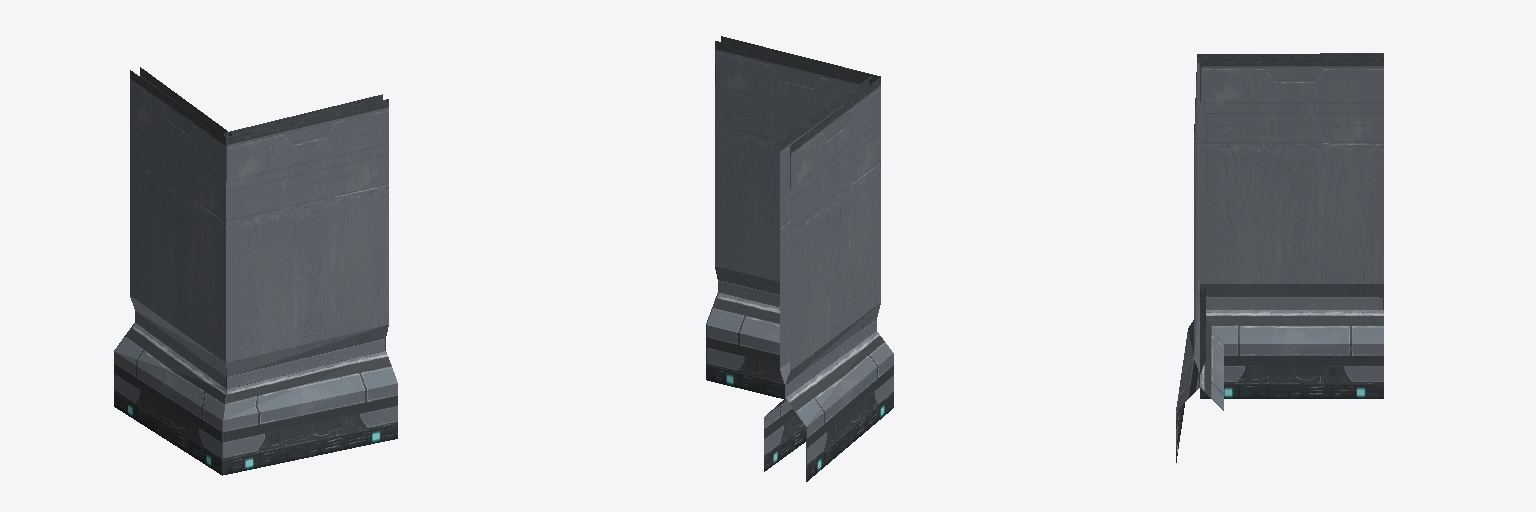
3 views of the same model, side by side, from view 1: azimuth 30°, elevation 25°; view 2: azimuth 150°, elevation 25°; view 3: azimuth 270°, elevation 25° (orthographic).
Visible parts, largest first — view 1: Plane.011_Plane.000_Plane.011_Plane.000, Plane.011_Plane.002, Plane.011_Plane.000; view 2: Plane.011_Plane.000_Plane.011_Plane.000, Plane.011_Plane.002, Plane.011_Plane.000; view 3: Plane.011_Plane.000, Plane.011_Plane.000_Plane.011_Plane.000, Plane.011_Plane.002.
Boxes of the visible parts, x1,y1,x2,y2 form: Plane.011_Plane.000_Plane.011_Plane.000: [114, 70, 397, 475]; Plane.011_Plane.002: [224, 94, 385, 388]; Plane.011_Plane.000: [135, 67, 231, 388]; Plane.011_Plane.000_Plane.011_Plane.000: [718, 36, 893, 481]; Plane.011_Plane.002: [706, 41, 873, 398]; Plane.011_Plane.000: [764, 76, 876, 471]; Plane.011_Plane.000: [1200, 58, 1383, 398]; Plane.011_Plane.000_Plane.011_Plane.000: [1176, 53, 1383, 462]; Plane.011_Plane.002: [1200, 115, 1223, 410].
Size of the model in its own units: 1.13 by 2 by 1.13.
Materials: 4 (1 with a texture image).